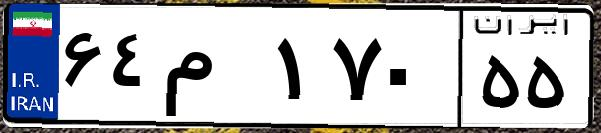0: (385, 28, 445, 110)
1: (270, 28, 330, 110)
4: (110, 28, 158, 98)
5: (475, 38, 525, 113), (525, 38, 570, 115)
6: (57, 26, 110, 100)
7: (330, 28, 385, 110)
م: (158, 20, 270, 120)
